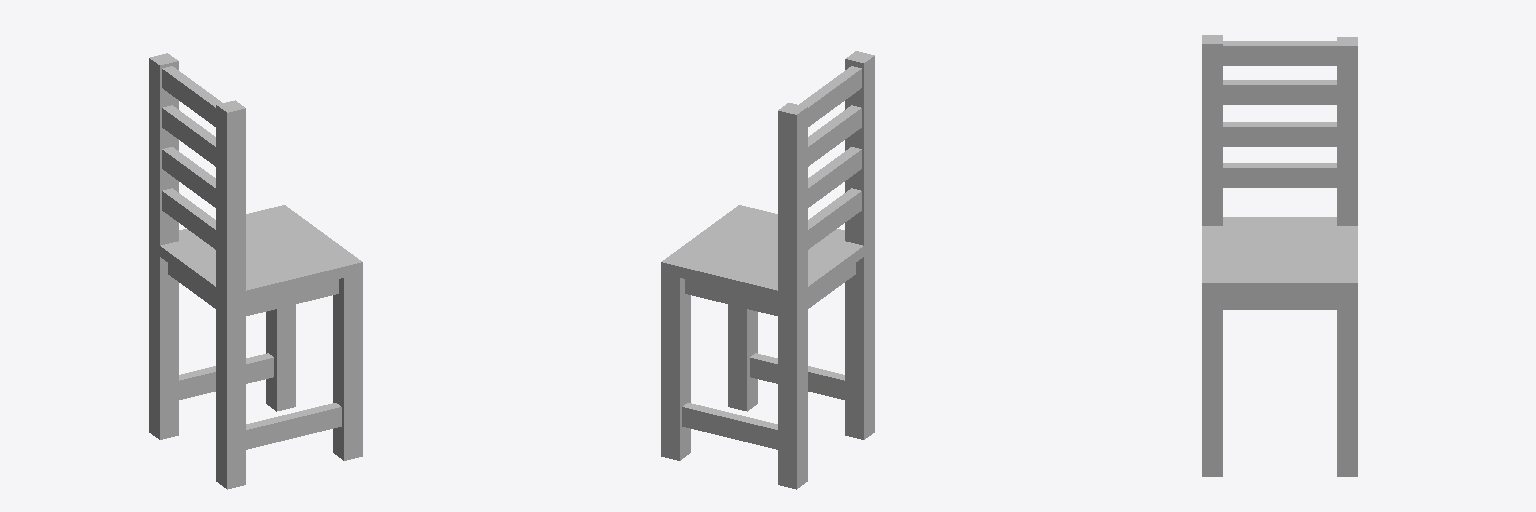
The model's file is chair2.obj.
3 views of the same model, side by side, from view 1: azimuth 30°, elevation 25°; view 2: azimuth 150°, elevation 25°; view 3: azimuth 270°, elevation 25° (orthographic).
Bounding box in the file's own units: 0.65 × 1.73 × 0.65.